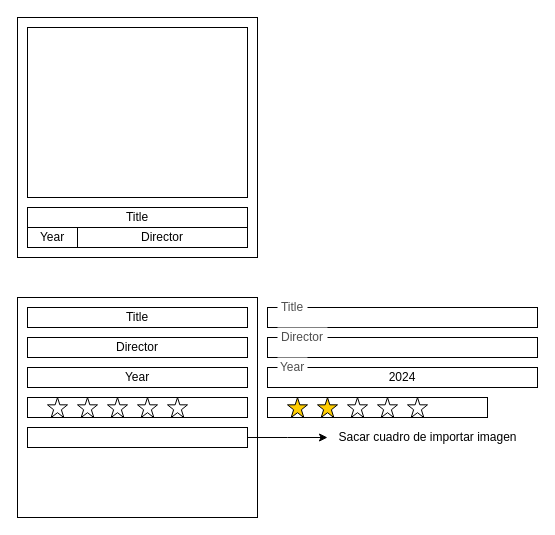
Image size: 555x535. Some labels were removed from this diagram. Each missing label, with the box of its shape:
Cuenting Tarantino: (266, 336, 538, 358)
La asombrosa película de la vida: (266, 306, 538, 328)
Preview image: (26, 426, 248, 448)
